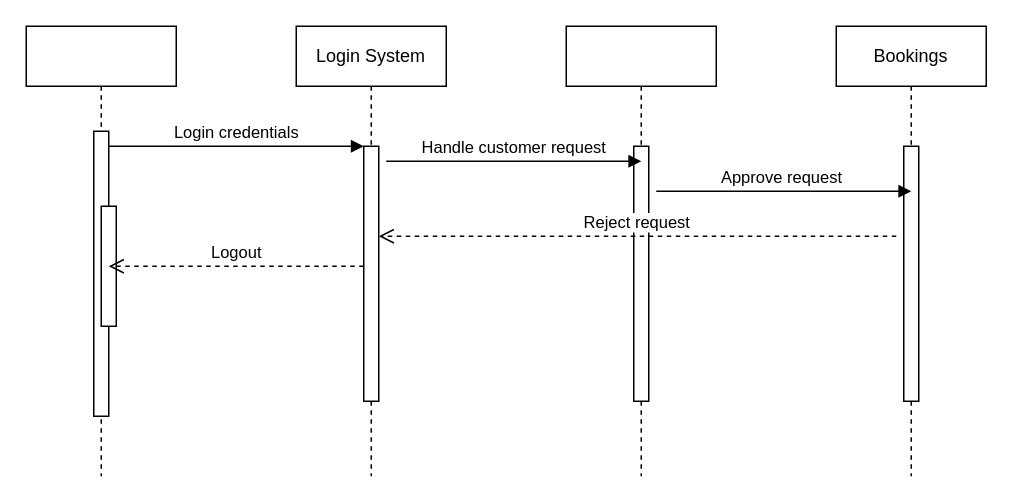
Some shapes in this 1013 by 503 pixel diagram are drawn without their labels. Here are the shapes that lost their labels. From the top down, the centre of each, then its label:
At (100,250): "Hotel Manager".
At (640,250): "Hotel System".
